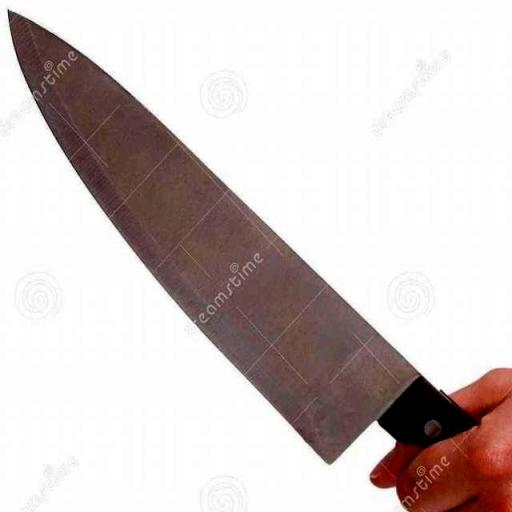knife: (2, 3, 512, 511)
